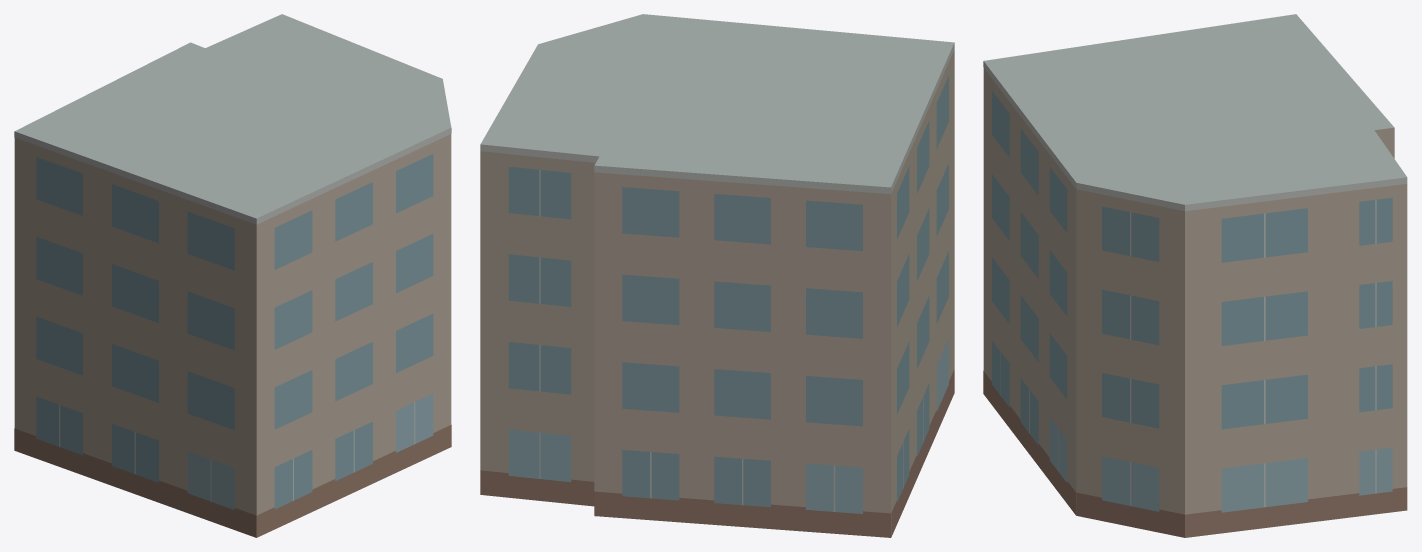
File: survey-upis-32858219.glb
The picture shows the model from 3 angles, left to right: view 1: azimuth 30°, elevation 25°; view 2: azimuth 150°, elevation 25°; view 3: azimuth 270°, elevation 25°; orthographic projection. The views are drawn at different scales.
Visible parts, largest first — view 1: survey-upis-32858219.tmp; view 2: survey-upis-32858219.tmp; view 3: survey-upis-32858219.tmp.
Boxes of the visible parts, x1,y1,x2,y2 form: survey-upis-32858219.tmp: (14, 14, 451, 537); survey-upis-32858219.tmp: (480, 14, 954, 537); survey-upis-32858219.tmp: (983, 14, 1407, 537).
Size of the model in its own units: 15.5 by 12.6 by 14.55.
